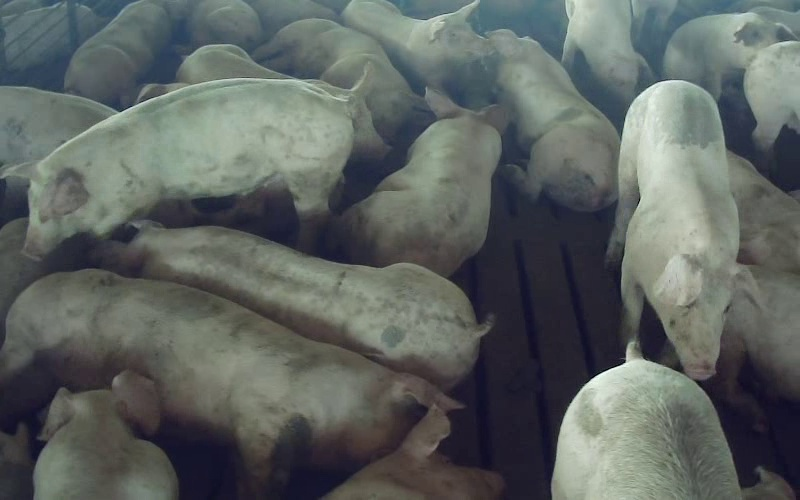pig: (93, 221, 490, 390), (1, 79, 353, 258), (607, 80, 738, 379), (552, 341, 740, 499), (488, 29, 619, 210), (253, 19, 418, 141), (663, 12, 794, 124), (342, 0, 488, 88), (65, 0, 171, 104), (563, 0, 651, 104)
